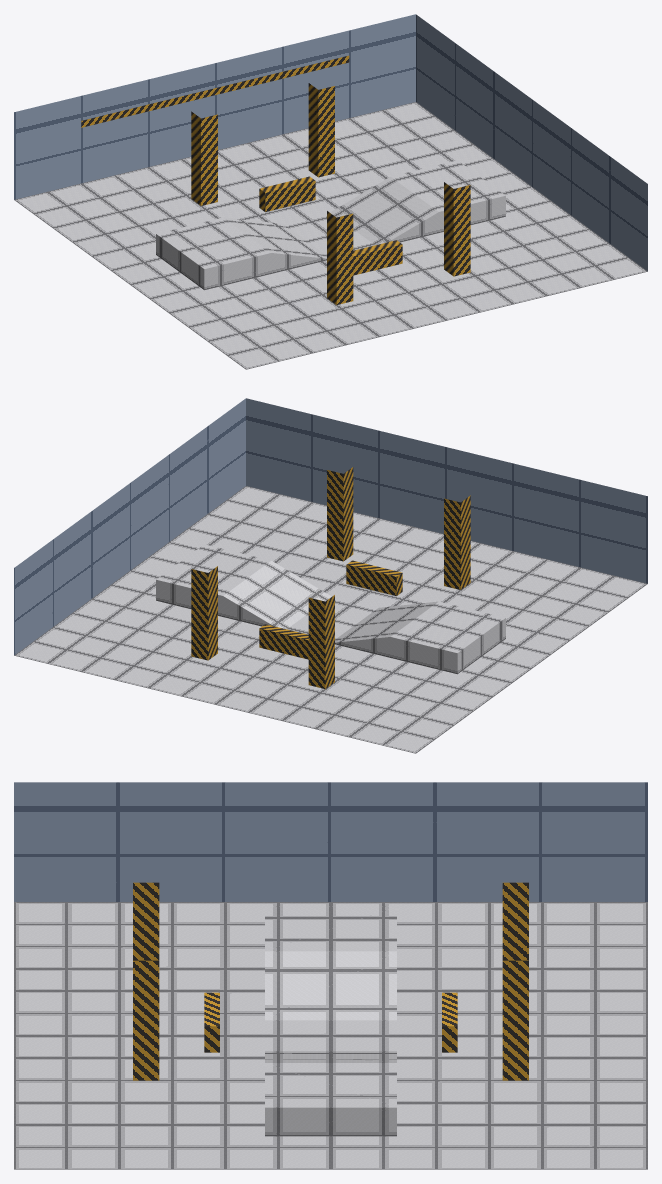
The model's file is model_room.glb.
The picture shows the model from 3 angles, top to bottom: view 1: azimuth 30°, elevation 25°; view 2: azimuth 150°, elevation 25°; view 3: azimuth 270°, elevation 25°; orthographic projection. The views are drawn at different scales.
Parts seen in each view (by area): view 1: floor, walls, pillars, platform_west, platform_east, cover, nocollide_strip; view 2: floor, walls, pillars, platform_west, platform_east, cover; view 3: floor, walls, platform_west, platform_east, pillars, cover.
Part boxes in pixels (x1,y1,x2,y2): floor: (14,102,647,369); walls: (14,14,647,271); pillars: (191,83,470,305); platform_west: (156,217,326,290); platform_east: (330,160,505,245); cover: (259,176,402,275); nocollide_strip: (81,55,349,127); floor: (14,486,647,753); walls: (14,398,647,655); pillars: (191,467,470,689); platform_west: (335,601,505,674); platform_east: (156,544,331,629); cover: (259,560,402,659); floor: (14,902,647,1169); walls: (14,782,647,901); platform_west: (265,906,396,1020); platform_east: (265,1051,396,1136); pillars: (133,882,528,1080); cover: (204,992,457,1052).
Size of the model in its own units: 24 by 5 by 24.
Materials: 4 (3 with a texture image).
